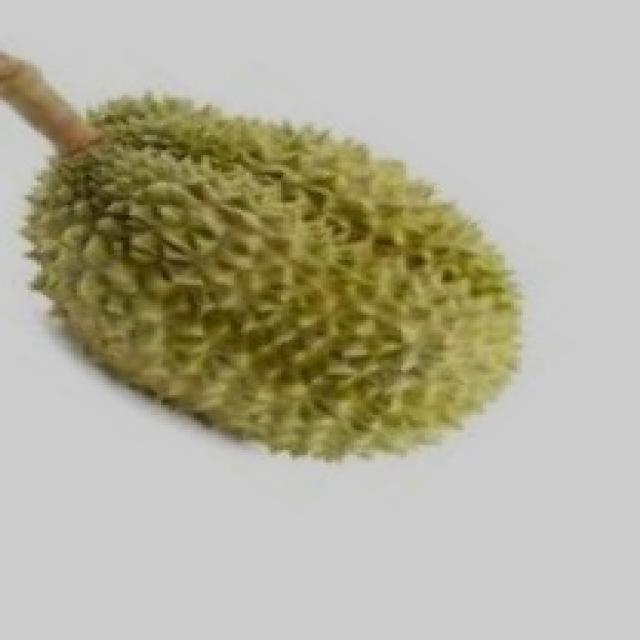fruit: (0, 107, 369, 525)
